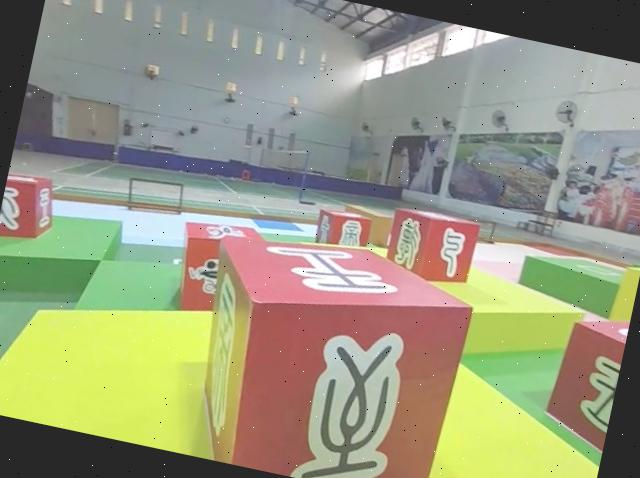R1: (164, 212, 275, 327)
R2 Fake: (172, 215, 483, 478), (379, 202, 483, 289), (0, 167, 61, 251), (309, 203, 375, 260)
R2 Real: (537, 302, 631, 459)
